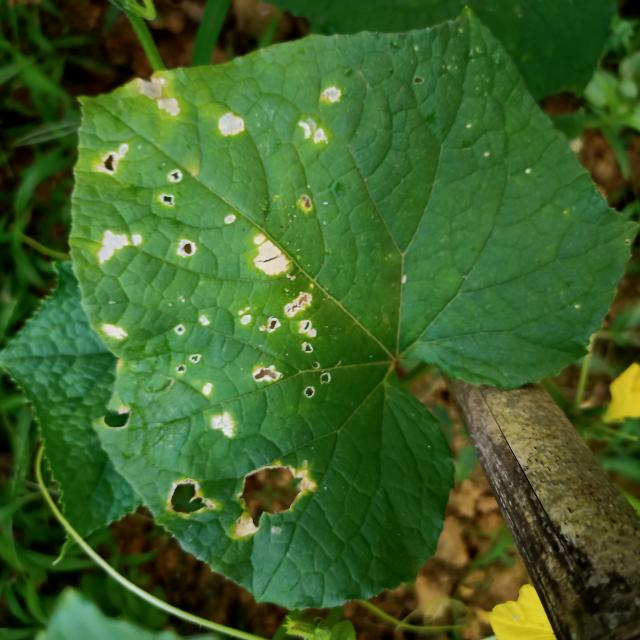disease_cucumber: (237, 288, 337, 399), (232, 456, 320, 540), (298, 85, 346, 148), (244, 228, 300, 281), (166, 473, 218, 518), (96, 222, 143, 268), (136, 72, 180, 119), (154, 169, 186, 209), (215, 105, 248, 140), (100, 141, 130, 179), (209, 407, 238, 440), (101, 319, 131, 340), (174, 236, 198, 260)
